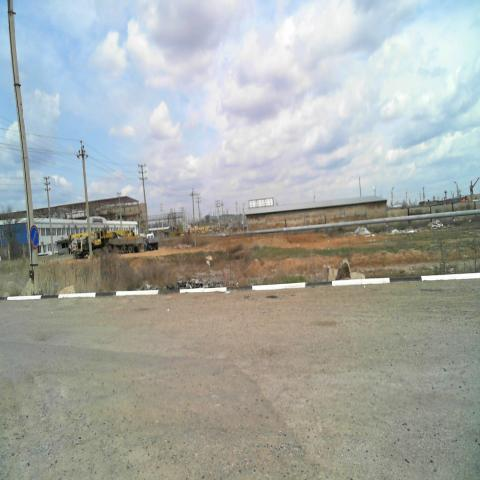3_28: (30, 224, 40, 249)
